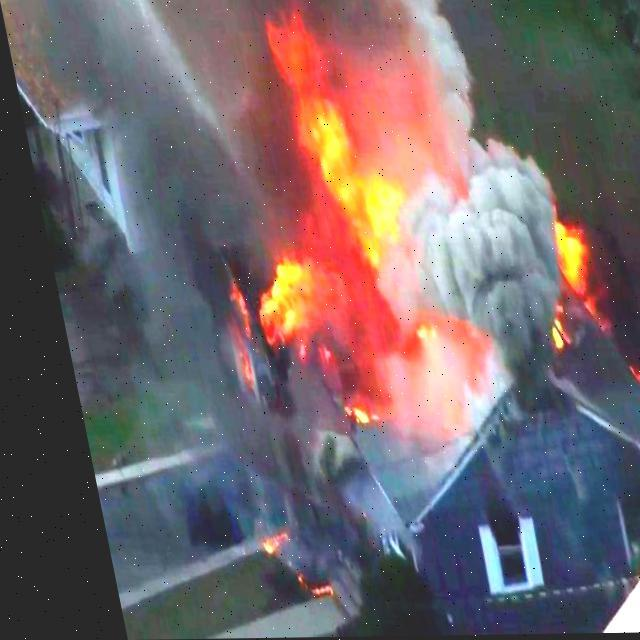Fire: (195, 12, 614, 434), (237, 521, 308, 598), (208, 286, 245, 386)
